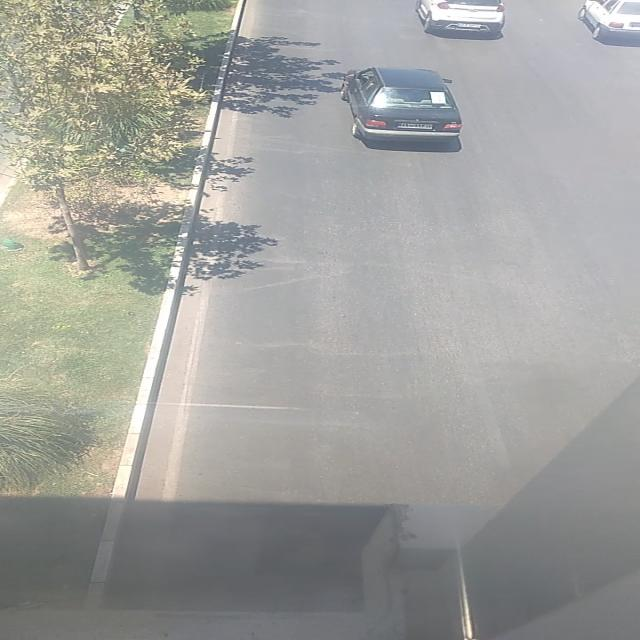car: (341, 66, 465, 144), (411, 1, 503, 38), (578, 0, 640, 44)
